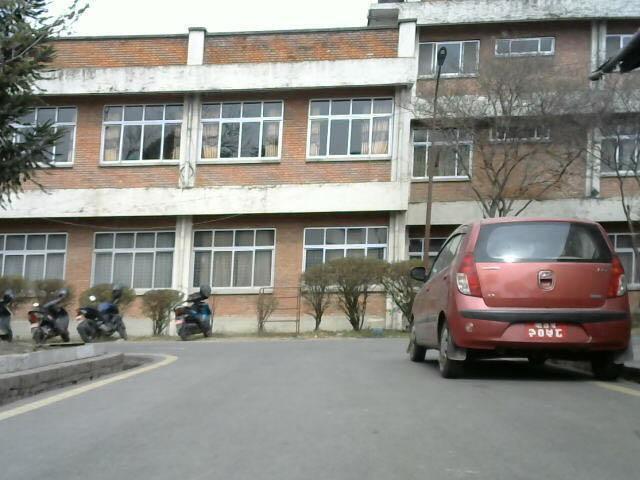Building: (41, 30, 401, 341)
Car: (405, 221, 640, 391)
Electrical Pole: (421, 41, 450, 290)
Motorcycle: (75, 280, 136, 348), (170, 276, 224, 351), (29, 283, 79, 353)
Road: (0, 346, 640, 475)
Tree: (0, 1, 59, 209)
